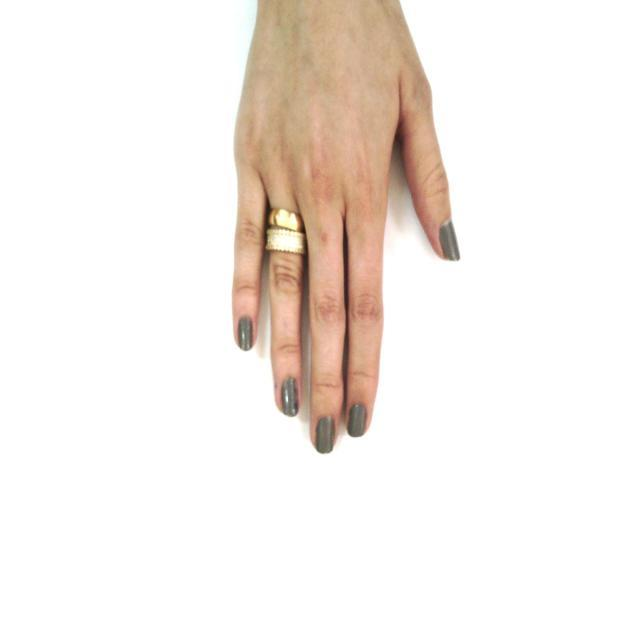Fingernail: (440, 222, 460, 261), (316, 417, 335, 453), (281, 378, 298, 416), (348, 404, 367, 436), (237, 316, 252, 350)
